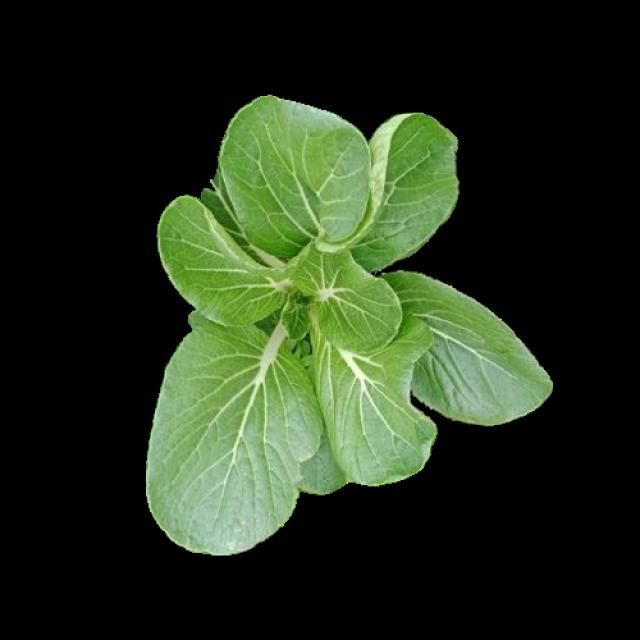healthy: (148, 91, 550, 552)
mature: (150, 93, 553, 554)
